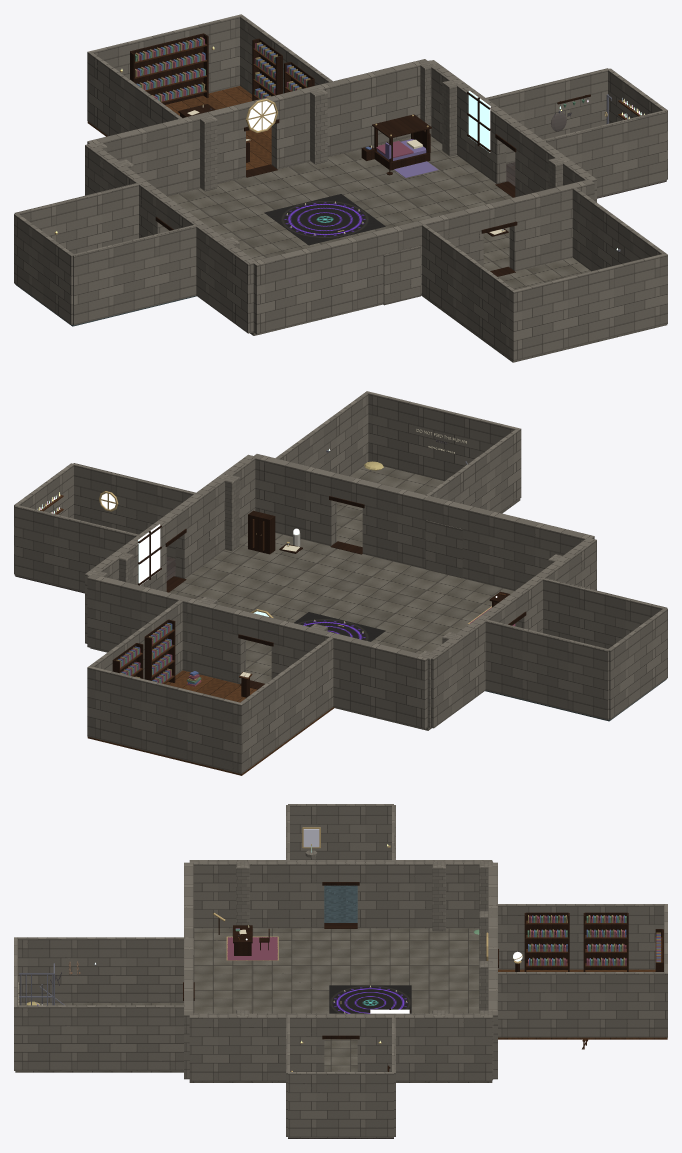
File: wizard_apartment.glb
The picture shows the model from 3 angles, top to bottom: view 1: azimuth 30°, elevation 25°; view 2: azimuth 150°, elevation 25°; view 3: azimuth 270°, elevation 25°; orthographic projection. The views are drawn at different scales.
Visible parts, largest first — view 1: WIZARD_ROOM_Merged, WIZARD_CAPTIVE_ROOM_Merged, WIZARD_LIBRARY_Merged, WIZARD_BATHROOM_Merged, WIZARD_POTION_LAB_Merged; view 2: WIZARD_ROOM_Merged, WIZARD_LIBRARY_Merged, WIZARD_CAPTIVE_ROOM_Merged, WIZARD_BATHROOM_Merged, WIZARD_POTION_LAB_Merged; view 3: WIZARD_ROOM_Merged, WIZARD_LIBRARY_Merged, WIZARD_CAPTIVE_ROOM_Merged, WIZARD_POTION_LAB_Merged, WIZARD_BATHROOM_Merged.
Boxes of the visible parts, x1,y1,x2,y2 form: WIZARD_ROOM_Merged: [85, 59, 596, 335]; WIZARD_CAPTIVE_ROOM_Merged: [421, 187, 667, 362]; WIZARD_LIBRARY_Merged: [87, 14, 333, 170]; WIZARD_BATHROOM_Merged: [14, 182, 200, 326]; WIZARD_POTION_LAB_Merged: [481, 68, 667, 198]; WIZARD_ROOM_Merged: [85, 454, 596, 730]; WIZARD_LIBRARY_Merged: [87, 599, 334, 775]; WIZARD_CAPTIVE_ROOM_Merged: [274, 391, 521, 546]; WIZARD_BATHROOM_Merged: [481, 576, 667, 721]; WIZARD_POTION_LAB_Merged: [14, 463, 199, 593]; WIZARD_ROOM_Merged: [183, 860, 498, 1082]; WIZARD_LIBRARY_Merged: [493, 904, 667, 1049]; WIZARD_CAPTIVE_ROOM_Merged: [14, 937, 188, 1072]; WIZARD_POTION_LAB_Merged: [286, 1015, 395, 1138]; WIZARD_BATHROOM_Merged: [286, 804, 395, 922].
Size of what is drawn, in the model's own units: 32.5 by 4.76 by 33.3.
38 materials, 8 textured.
